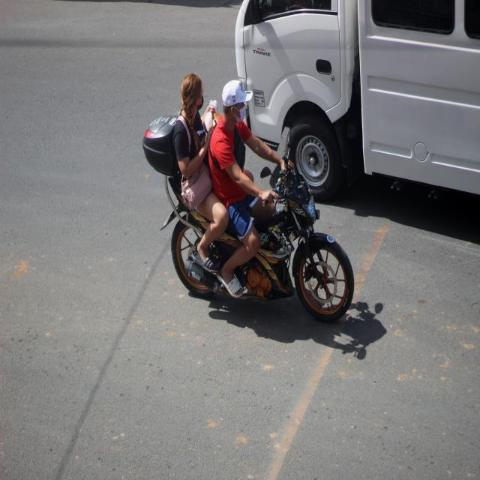motorcycle: (141, 71, 356, 324)
truck: (234, 2, 478, 211)
